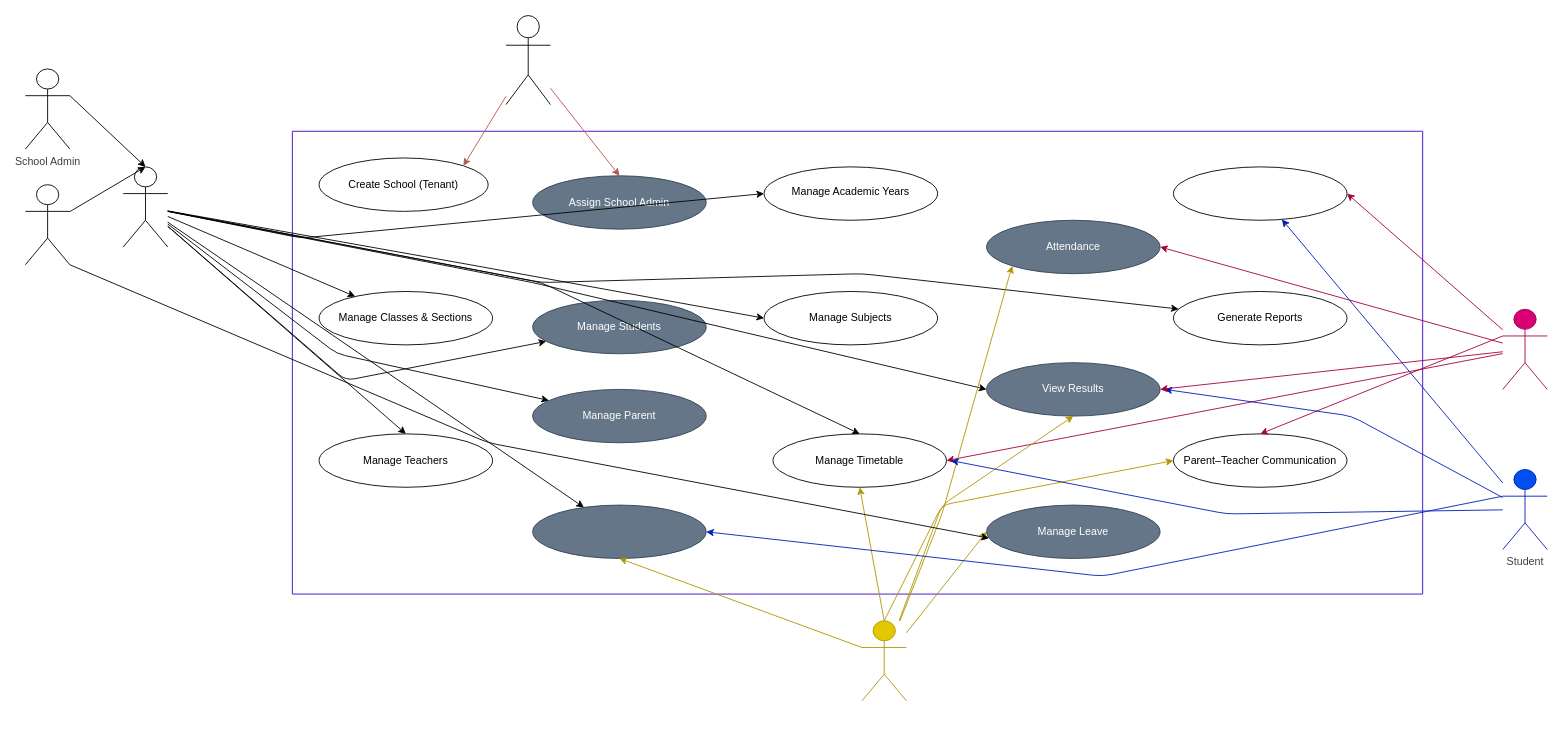
The diagram is 1563 pixels wide and 735 high, and some of its shapes have lost their labels. The box of each missing label's shape, as (x1, y1, x2, y2) in pixels:
Alerts & Notifications: (532, 504, 706, 558)
Assistant: (24, 184, 70, 265)
Manage Exams & Grades: (1173, 166, 1347, 220)
Manager: (122, 166, 168, 247)
Parent: (861, 620, 906, 701)
Super Admin: (505, 15, 550, 105)
Teacher: (1502, 308, 1547, 389)
